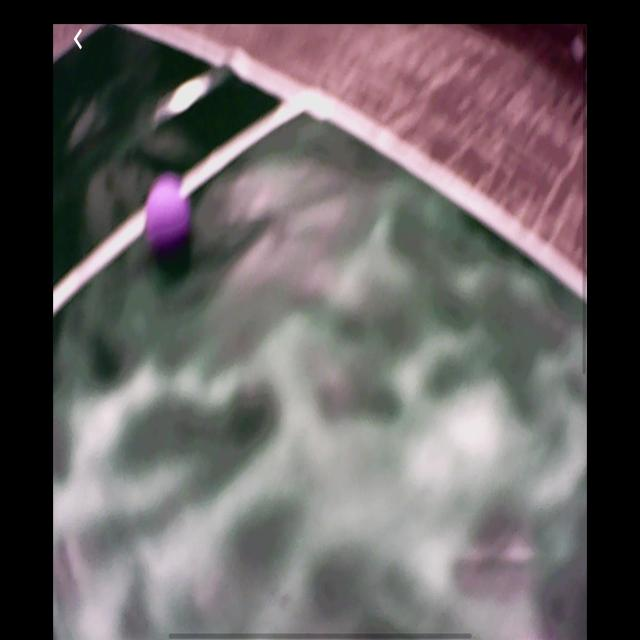ball: (145, 172, 193, 257)
